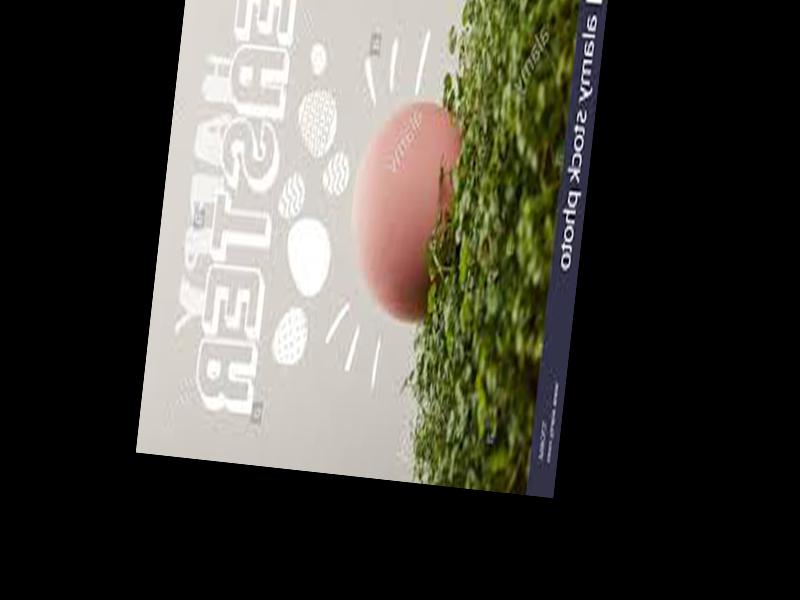Eggs: (341, 99, 465, 330)
